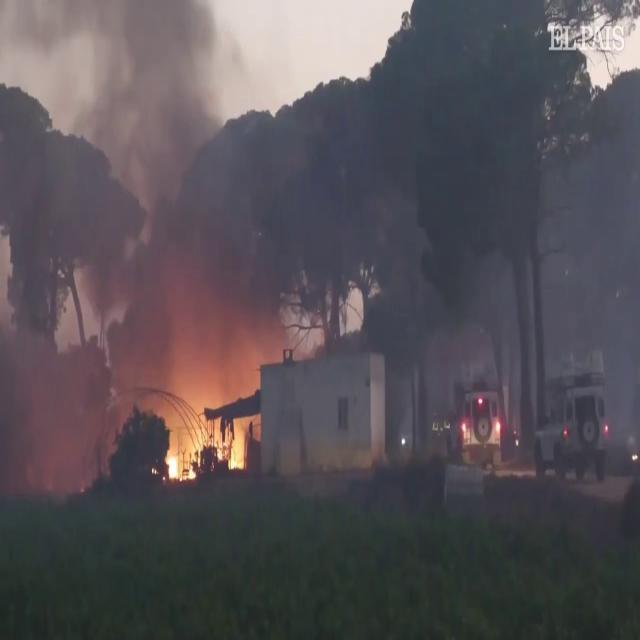Fire: (162, 385, 252, 483)
Smoke: (48, 0, 284, 367)
